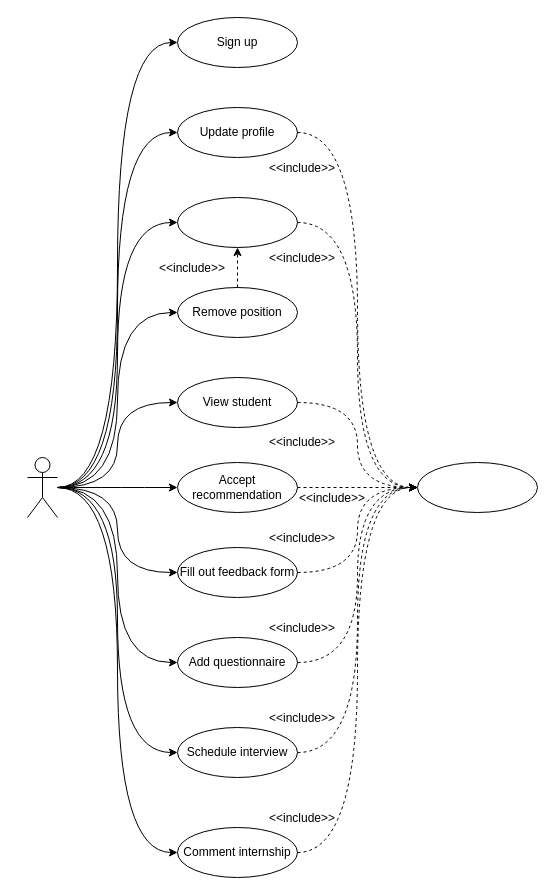
Image size: 555x895. Some labels were removed from this diagram. Each missing label, with the centre of its shape:
Company: [42,487]
Log in: [477,487]
Post position: [237,222]
